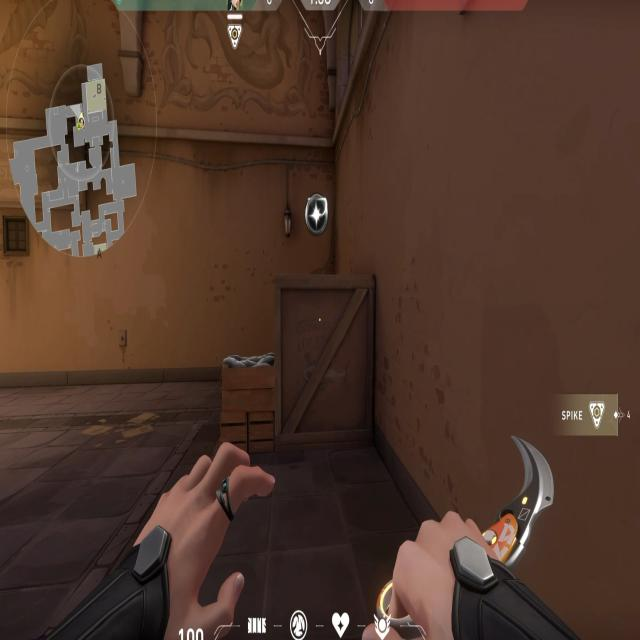B_Main_Wallbang: (223, 192, 354, 433)
